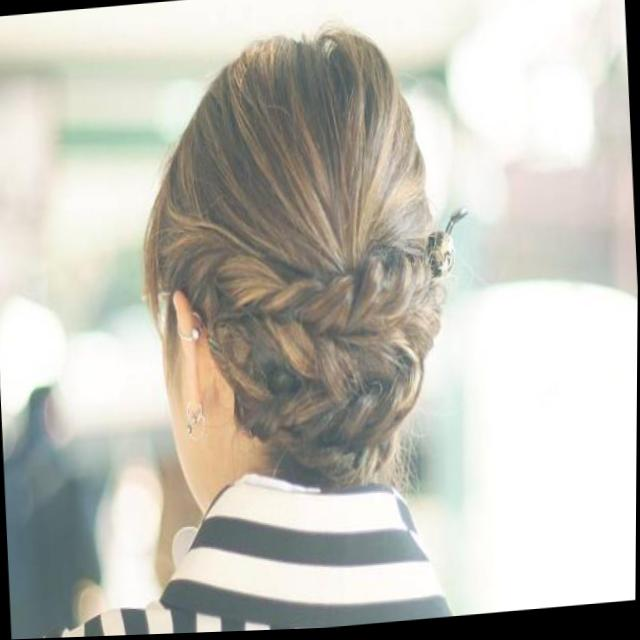no helmet: (149, 38, 447, 510)
